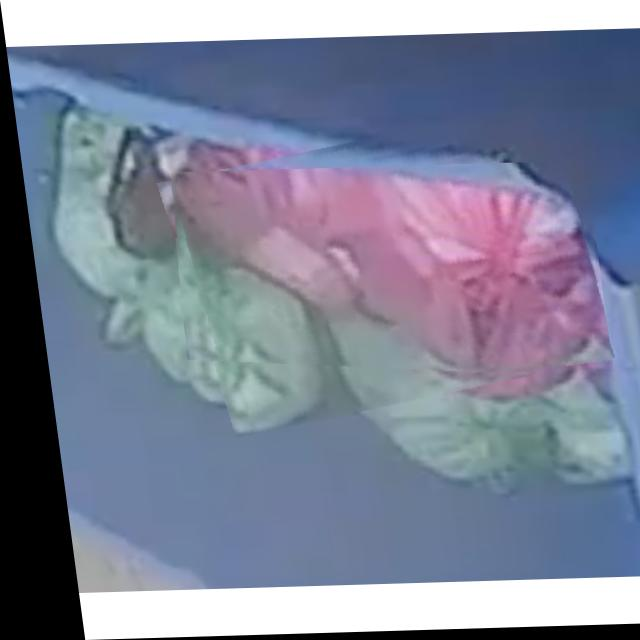other_trashbag: (165, 170, 598, 377)
